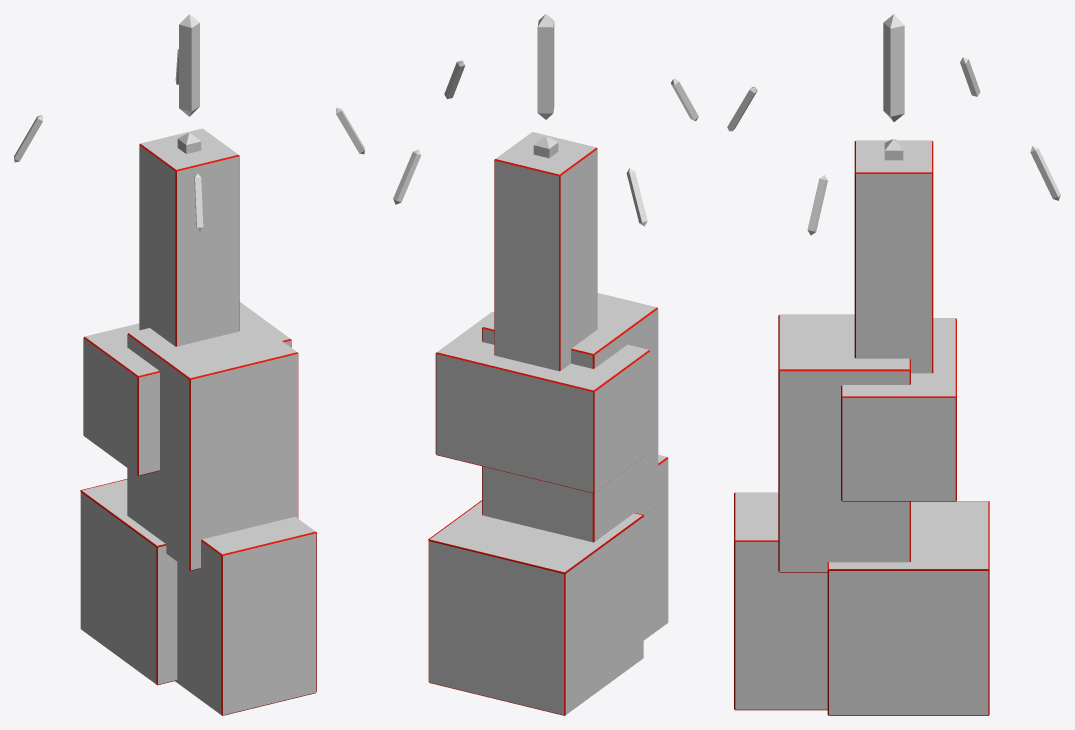
File: checkpoint_obelisk.fbx
The picture shows the model from 3 angles, left to right: view 1: azimuth 30°, elevation 25°; view 2: azimuth 150°, elevation 25°; view 3: azimuth 270°, elevation 25°; orthographic projection. The views are drawn at different scales.
Parts seen in each view (by area): view 1: Cube, Cube.001, Cube.002; view 2: Cube, Cube.002, Cube.001; view 3: Cube, Cube.001, Cube.002.
Part boxes in pixels (x1,y1,x2,y2): Cube: (80, 128, 316, 715); Cube.001: (179, 14, 199, 116); Cube.002: (14, 49, 364, 231); Cube: (428, 132, 668, 715); Cube.002: (393, 60, 698, 226); Cube.001: (537, 14, 554, 119); Cube: (734, 139, 989, 715); Cube.001: (883, 14, 904, 121); Cube.002: (727, 57, 1060, 235).
Bounding box in the file's own units: 120 × 267 × 120.
